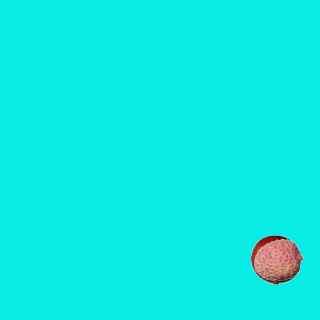Apple Braeburn: (250, 234, 300, 284)
Lychee: (253, 234, 303, 284)
